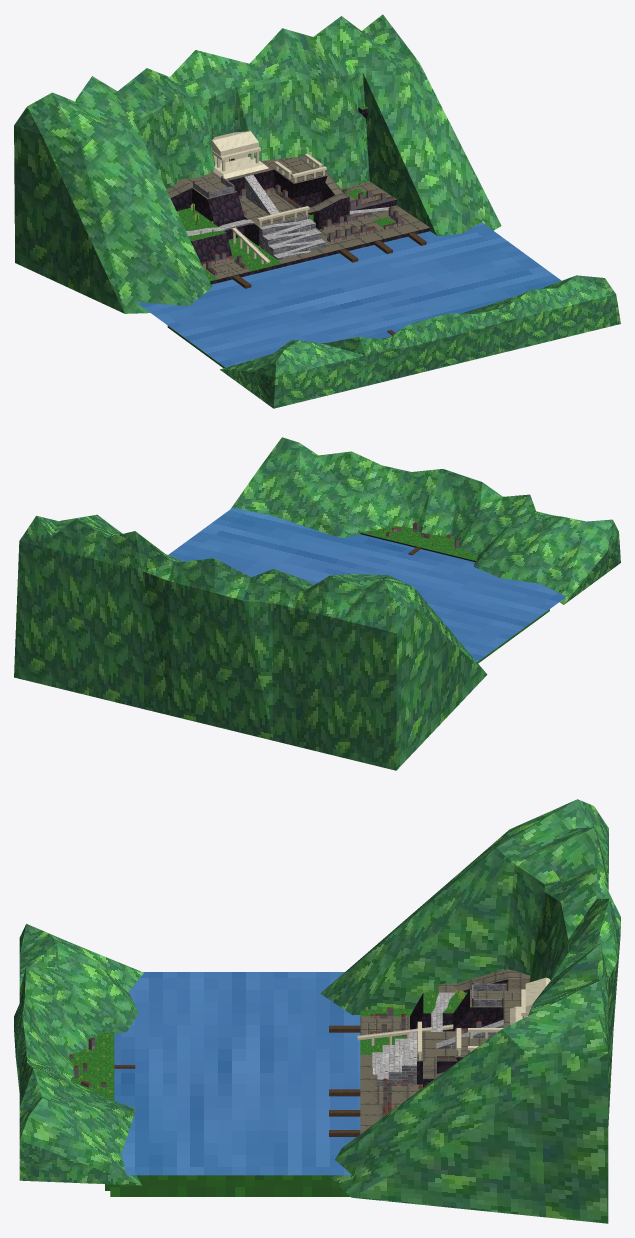
Rendered from NuevoMapa.fbx.
The picture shows the model from 3 angles, top to bottom: view 1: azimuth 30°, elevation 25°; view 2: azimuth 150°, elevation 25°; view 3: azimuth 270°, elevation 25°; orthographic projection. The views are drawn at different scales.
Visible parts, largest first — view 1: Cube; view 2: Cube; view 3: Cube.
Boxes of the visible parts, <box> form: Cube: <box>14,14,620,408</box>; Cube: <box>14,437,620,770</box>; Cube: <box>14,799,620,1223</box>.
Bounding box in the file's own units: 92659 × 40820 × 104395.
